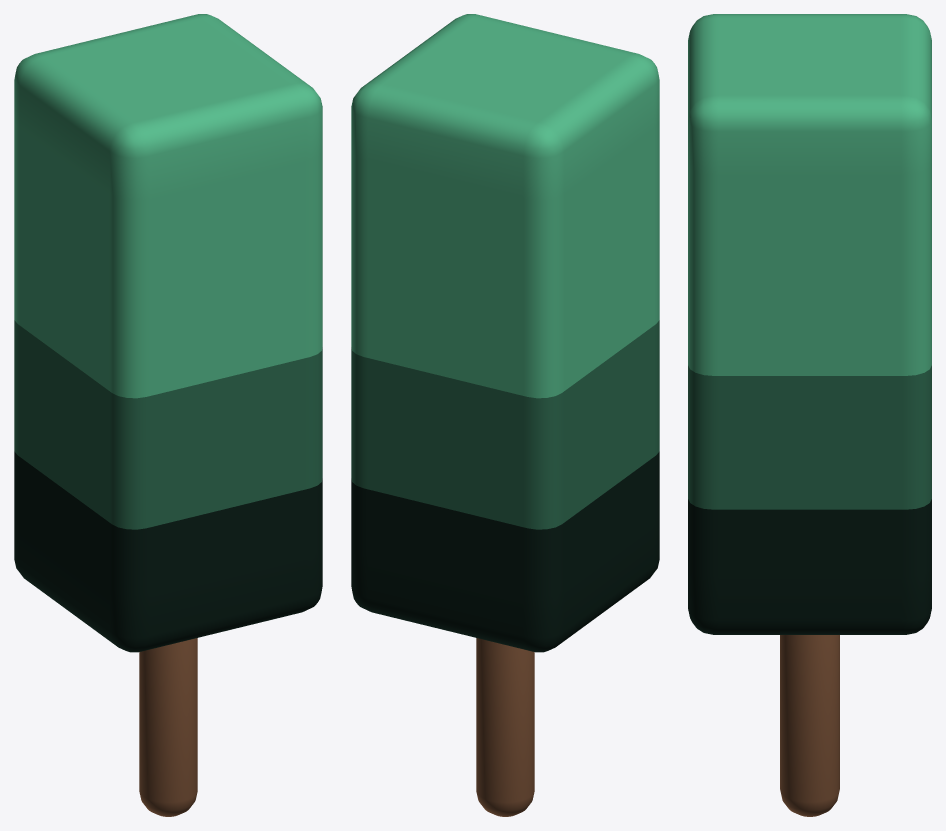
File: Tree.glb
The picture shows the model from 3 angles, left to right: view 1: azimuth 30°, elevation 25°; view 2: azimuth 150°, elevation 25°; view 3: azimuth 270°, elevation 25°; orthographic projection.
Visible parts, largest first — view 1: Tree; view 2: Tree; view 3: Tree.
Boxes of the visible parts, left/top/right/bottom form: Tree: left=14, top=14, right=322, bottom=816; Tree: left=351, top=14, right=659, bottom=816; Tree: left=688, top=14, right=931, bottom=816.
Size of the model in its own units: 0.2218 by 0.7592 by 0.2218.
